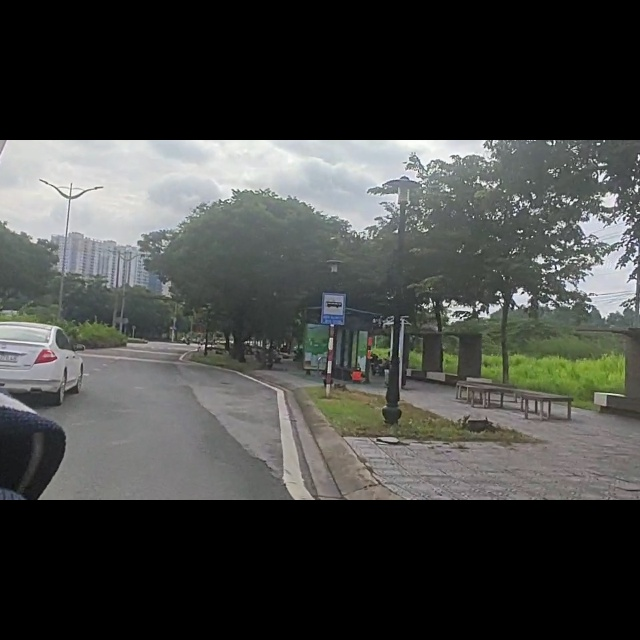bien_hieu_lenh: (319, 265, 349, 337)
